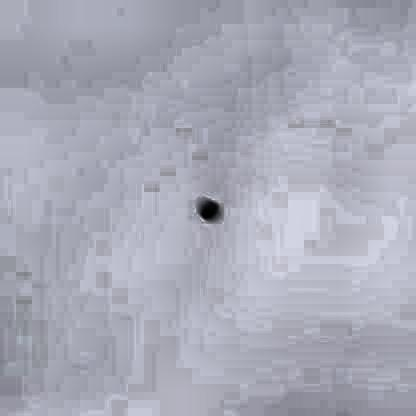golfball: (194, 198, 219, 220)
